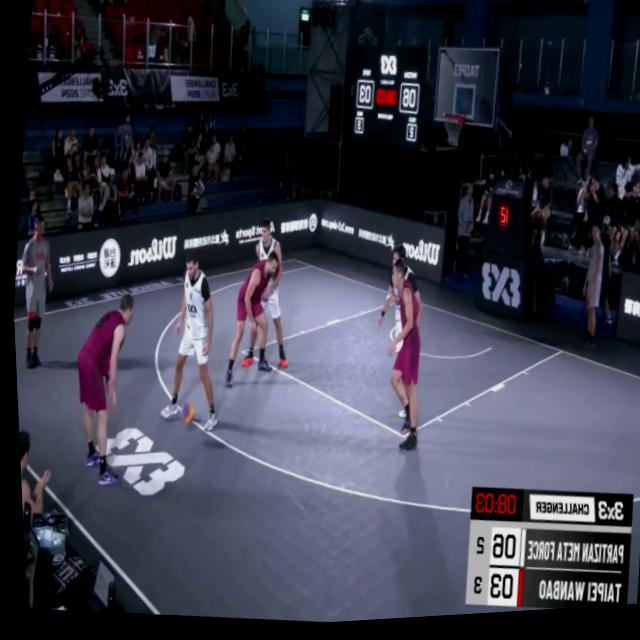ball: (175, 400, 194, 430)
hoop: (438, 112, 468, 154)
player: (58, 289, 140, 492), (147, 239, 231, 436), (366, 259, 434, 459), (360, 242, 429, 423), (229, 215, 301, 375), (212, 248, 282, 397)
